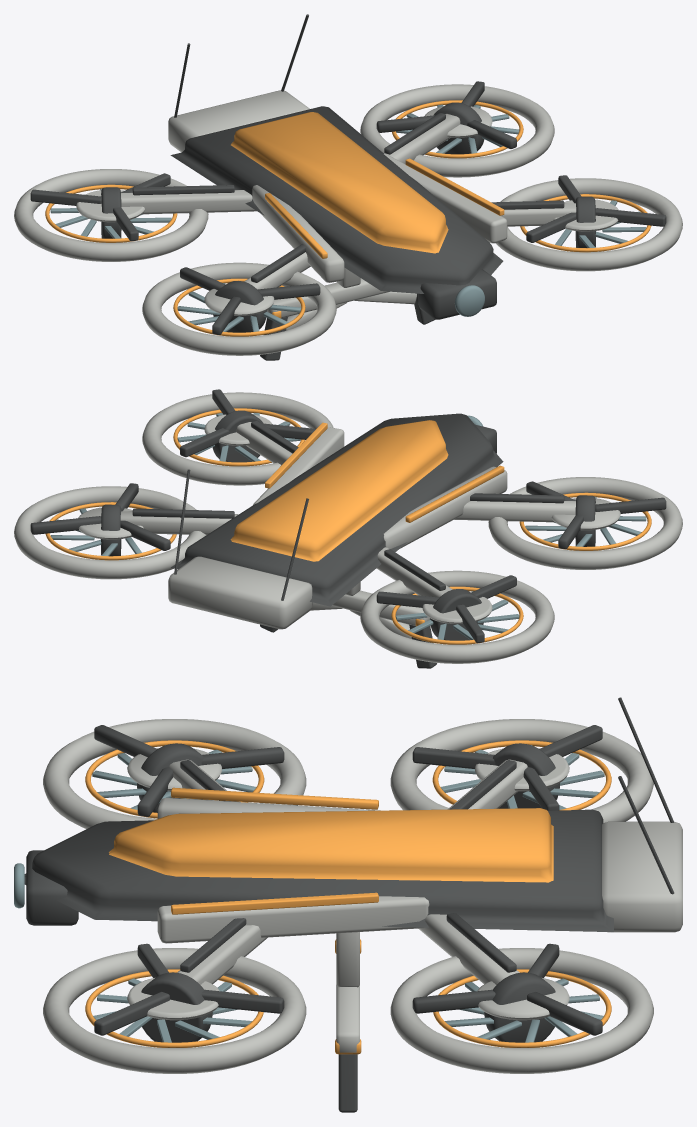
The model's file is delivery_drone.glb.
3 renders of one model, top to bottom at view 1: azimuth 30°, elevation 25°; view 2: azimuth 150°, elevation 25°; view 3: azimuth 270°, elevation 25°, orthographic. The views are drawn at different scales.
Visible parts, largest first — view 1: Drone_Antenna_-1.097; view 2: Drone_Antenna_-1.097; view 3: Drone_Antenna_-1.097.
Boxes of the visible parts, <box> form: Drone_Antenna_-1.097: <box>14,14,682,360</box>; Drone_Antenna_-1.097: <box>14,389,682,668</box>; Drone_Antenna_-1.097: <box>14,697,682,1112</box>.
Bounding box in the file's own units: 1.45 × 0.6415 × 1.2.
